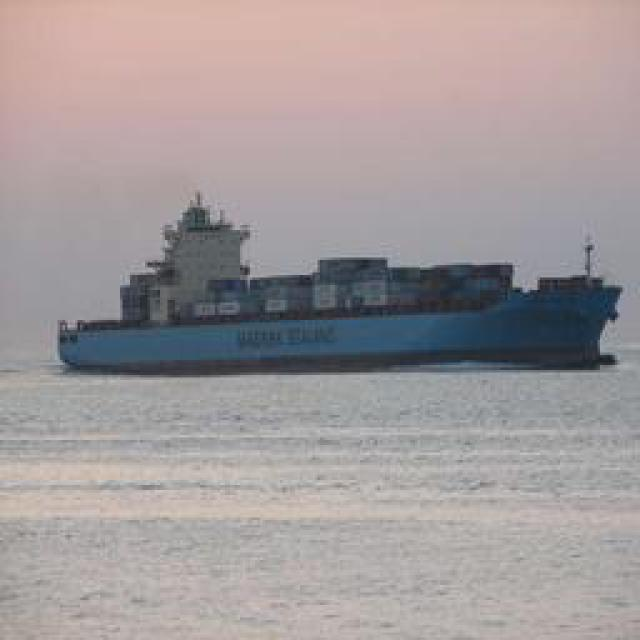Ship: (59, 256, 624, 376)
